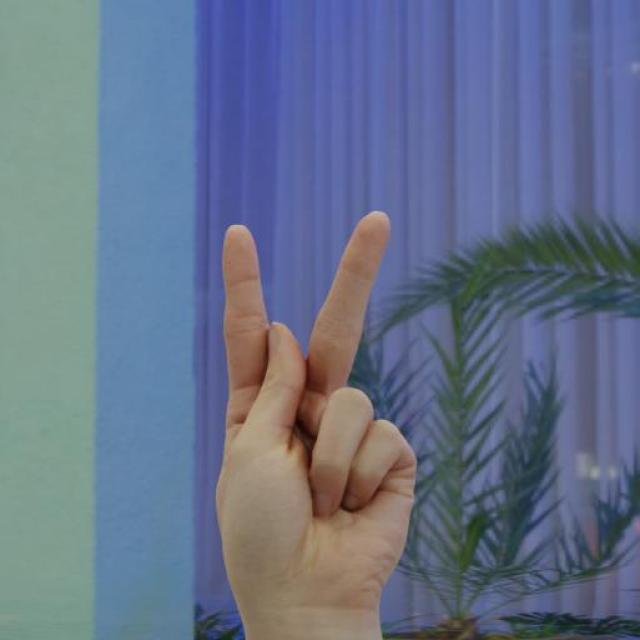K: (175, 181, 443, 640)
